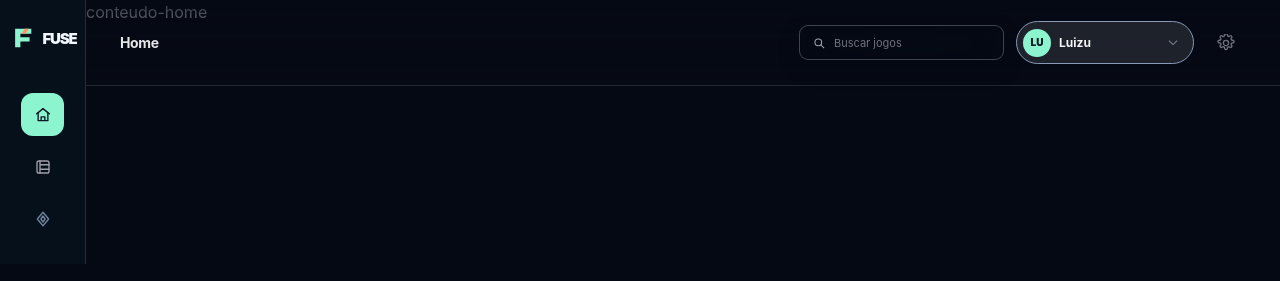
it: navigates from Home to Biblioteca through the sidebar and back
The image size is (1280, 281).
Check: the text "conteudo-home" is shown, box top-left (86, 2), bottom-right (207, 22)
Click the link named "Biblioteca" at (42, 166), box top-left (34, 158), bottom-right (52, 176)
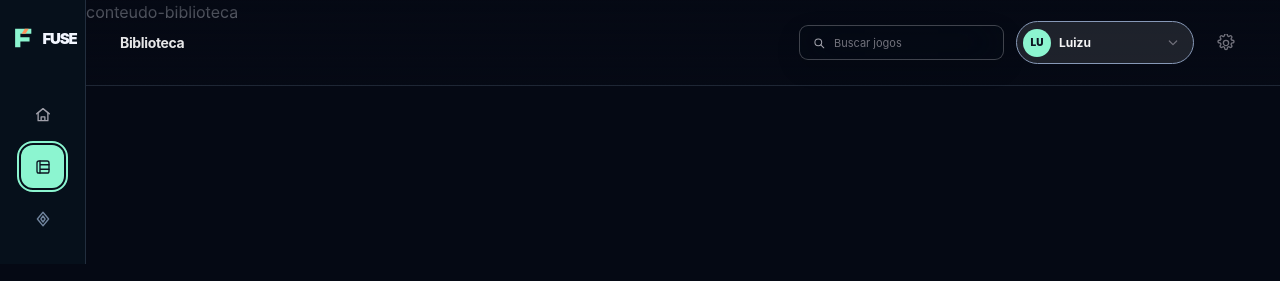
Check: the text "conteudo-biblioteca" is shown, box top-left (86, 2), bottom-right (238, 22)
Click the link named "Home" at (42, 114), box top-left (34, 106), bottom-right (52, 124)
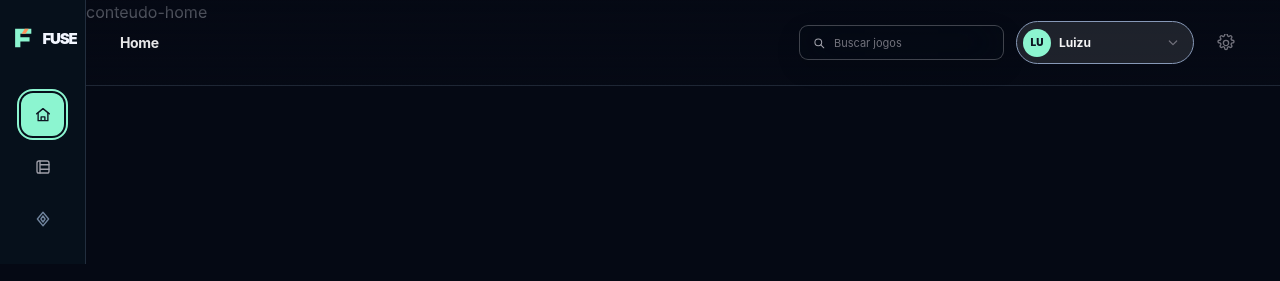
Check: the text "conteudo-home" is shown, box top-left (86, 2), bottom-right (207, 22)
